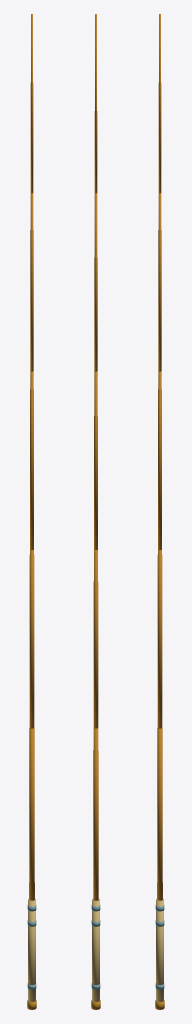
Rendered from pole_rod.glb.
The picture shows the model from 3 angles, left to right: view 1: azimuth 90°, elevation 25°; view 2: azimuth 150°, elevation 25°; view 3: azimuth 270°, elevation 25°; orthographic projection.
Visible parts, largest first — view 1: pole_rod_Segment2, pole_rod_Segment1, pole_rod_Handle, pole_rod_Segment4, pole_rod_Segment3, pole_rod_Segment5; view 2: pole_rod_Segment1, pole_rod_Segment2, pole_rod_Handle, pole_rod_Segment4, pole_rod_Segment3, pole_rod_Segment5; view 3: pole_rod_Segment2, pole_rod_Segment1, pole_rod_Handle, pole_rod_Segment4, pole_rod_Segment3, pole_rod_Segment5.
Part boxes in pixels (x1,y1,x2,y2): pole_rod_Segment2: (29,550,34,728); pole_rod_Segment1: (29,728,34,900); pole_rod_Handle: (27,898,36,1009); pole_rod_Segment4: (30,193,33,371); pole_rod_Segment3: (30,371,33,549); pole_rod_Segment5: (30,14,33,193); pole_rod_Segment1: (93,728,98,900); pole_rod_Segment2: (93,549,98,728); pole_rod_Handle: (91,898,100,1009); pole_rod_Segment4: (94,193,97,371); pole_rod_Segment3: (94,371,97,549); pole_rod_Segment5: (94,14,97,193); pole_rod_Segment2: (157,550,162,728); pole_rod_Segment1: (157,728,162,900); pole_rod_Handle: (155,898,164,1009); pole_rod_Segment4: (158,193,161,371); pole_rod_Segment3: (158,371,161,549); pole_rod_Segment5: (158,14,161,193).
Size of the model in its own units: 0.0276 by 3.23 by 0.0276.
1 material, 1 textured.
